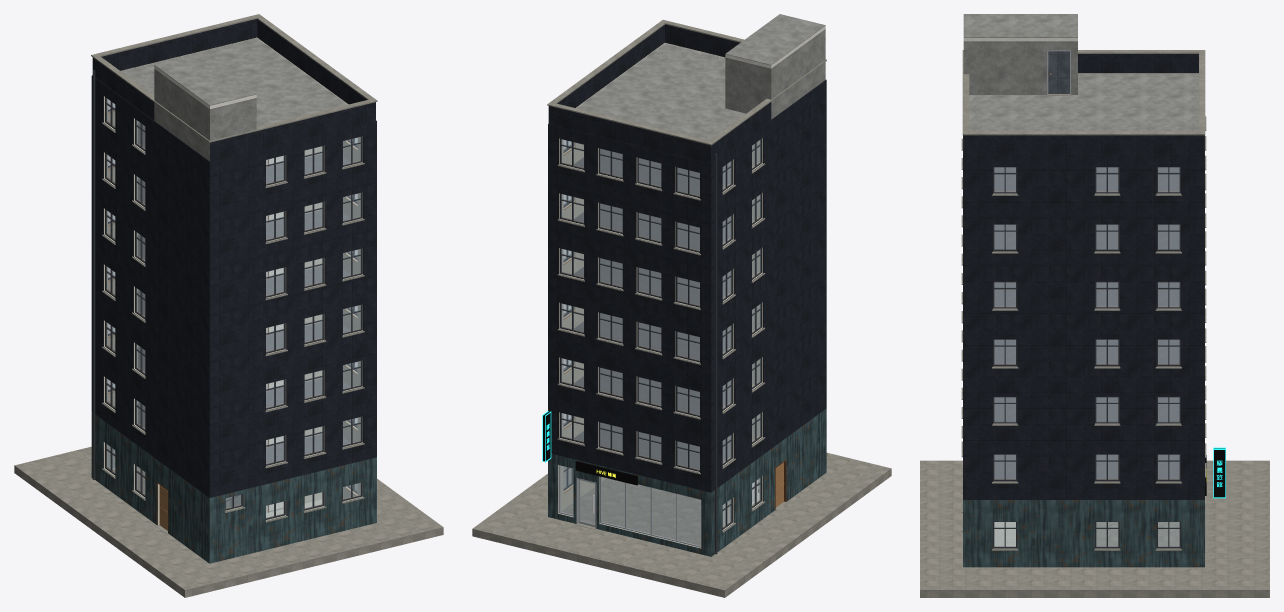
Rendered from b_capsule_tower.gltf.
The picture shows the model from 3 angles, left to right: view 1: azimuth 30°, elevation 25°; view 2: azimuth 150°, elevation 25°; view 3: azimuth 270°, elevation 25°; orthographic projection. The views are drawn at different scales.
Parts seen in each view (by area): view 1: S_capsule_tower; view 2: S_capsule_tower, D_capsule_tower_F1_S2_Door0; view 3: S_capsule_tower, D_capsule_tower_PH_W0_Door0.
Part boxes in pixels (box(x1,y1,x2,y2)): S_capsule_tower: box(14, 14, 443, 597); S_capsule_tower: box(472, 14, 891, 597); D_capsule_tower_F1_S2_Door0: box(578, 479, 595, 526); S_capsule_tower: box(920, 14, 1269, 597); D_capsule_tower_PH_W0_Door0: box(1048, 51, 1069, 93).
Size of the model in its own units: 14 by 24.1 by 16.
22 materials, 12 textured.
